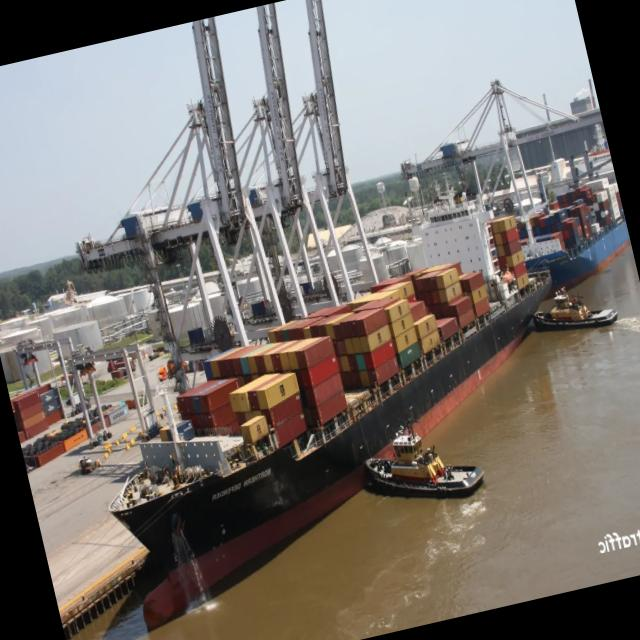Cargo: (110, 192, 550, 629), (527, 178, 630, 288)
Tug: (365, 429, 483, 495), (534, 288, 618, 330)
